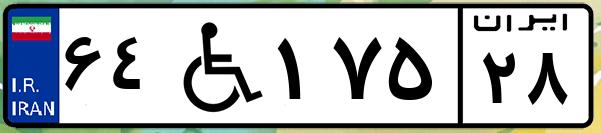1: (270, 28, 330, 110)
2: (475, 38, 525, 113)
4: (110, 28, 158, 98)
5: (385, 28, 445, 110)
6: (57, 26, 110, 100)
7: (330, 28, 385, 110)
8: (525, 38, 570, 115)
ژ (معلولین و جانبازان): (158, 12, 270, 120)
